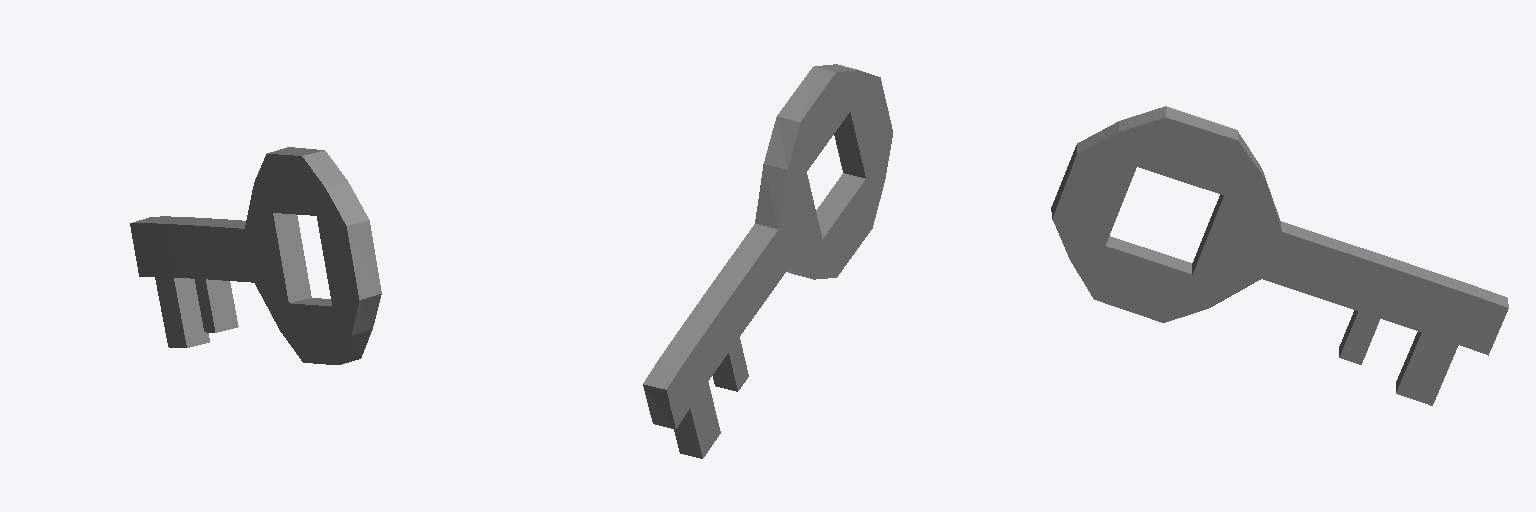
The model's file is key.obj.
3 renders of one model, left to right at view 1: azimuth 30°, elevation 25°; view 2: azimuth 150°, elevation 25°; view 3: azimuth 270°, elevation 25°, orthographic.
Parts seen in each view (by area): view 1: Tube001; view 2: Tube001; view 3: Tube001.
Part boxes in pixels (x1,y1,x2,y2): Tube001: (130,147,381,364); Tube001: (643,64,892,458); Tube001: (1051,106,1508,405).
Size of the model in its own units: 1.01 by 11.24 by 16.14.